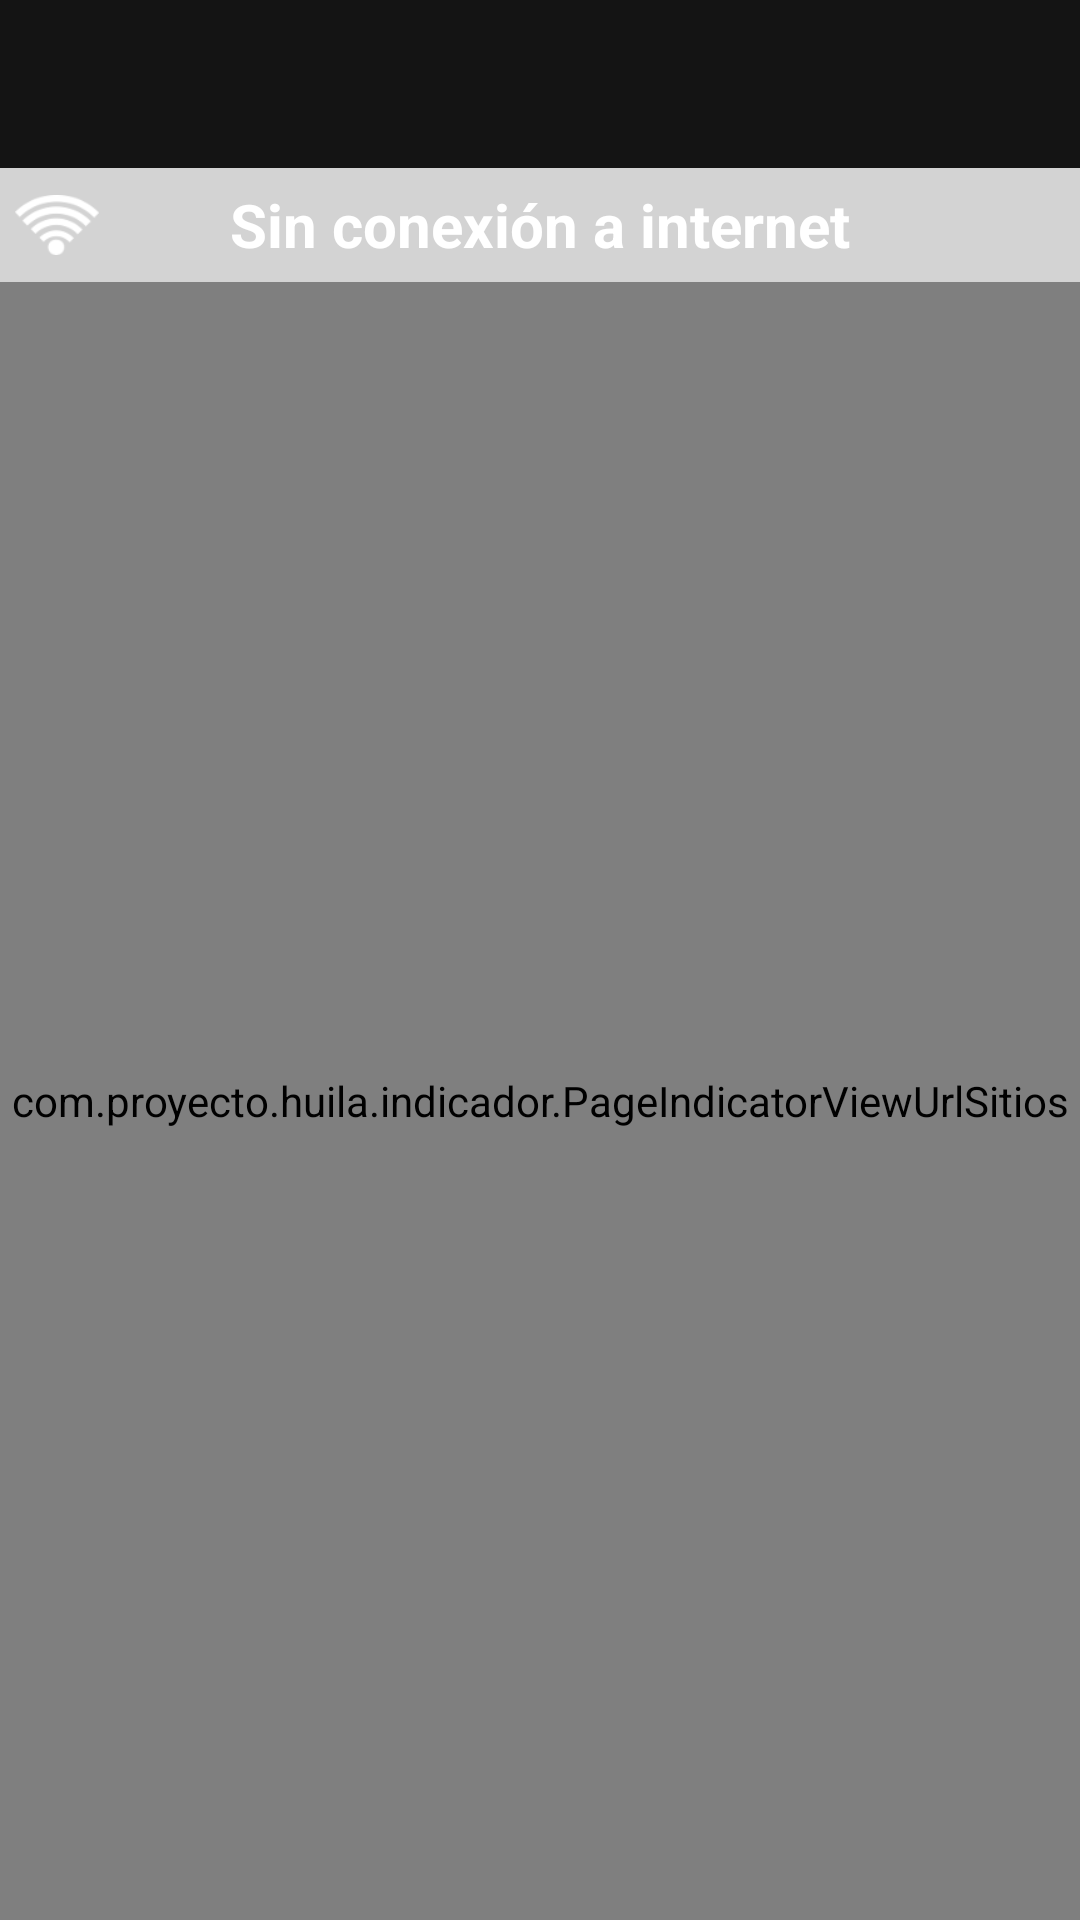

Icons on this 1080x1920 Android screen, each with its box as (x1, y1, x2, y2):
conexion: (16, 195, 98, 255)
